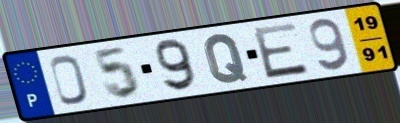0: (48, 54, 90, 107)
5: (90, 43, 141, 101)
9: (306, 16, 352, 74), (154, 37, 198, 93)
E: (250, 20, 312, 81)
Q: (202, 32, 251, 85)
